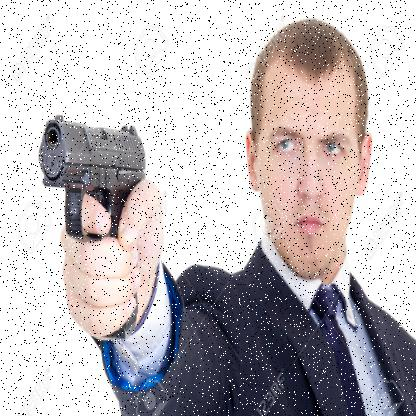pistol: (36, 112, 147, 245)
